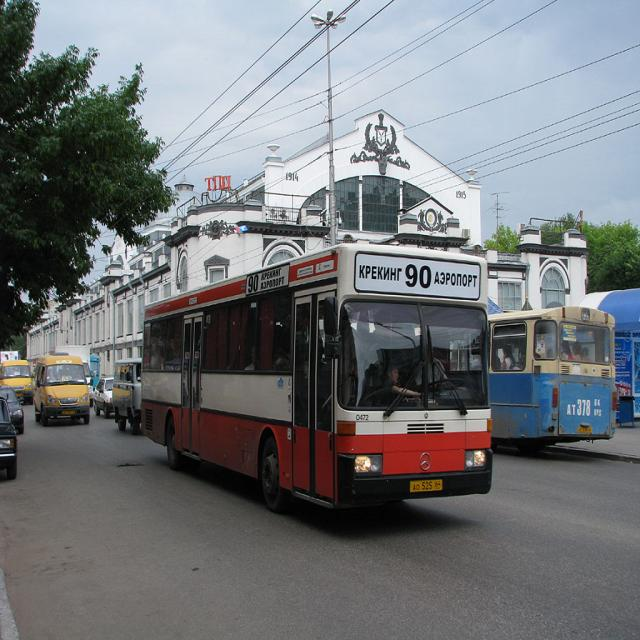number-of-bus: (404, 262, 437, 299), (244, 275, 263, 299)
